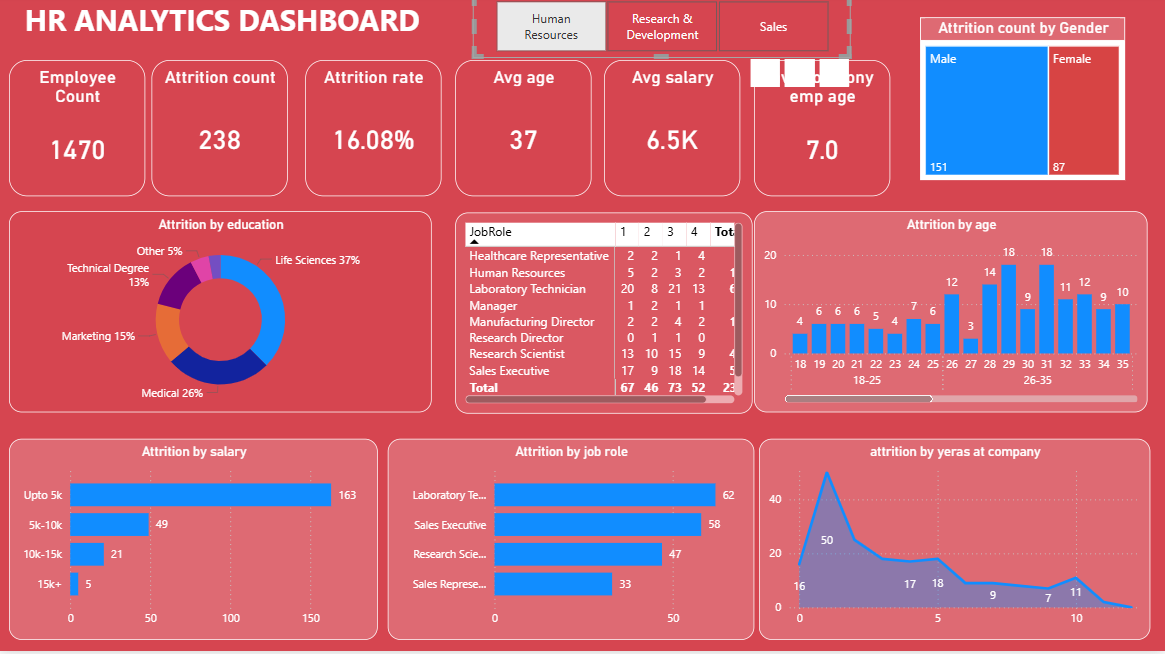

What the dashboard file says about the page in this screenshot:
{"tool":"powerbi","page":{"name":"Page 1","canvas":[1280,720],"ordinal":0},"visuals":[{"type":"card","title":"Employee Count","fields":{"Values":["Count(HR_Analytics.EmpID)"]},"box":[11,71.4,149.6,149.6],"z":0},{"type":"card","title":"Avg salary","fields":{"Values":["Avg(HR_Analytics.MonthlyIncome)"]},"box":[664.2,71.4,149.6,149.6],"z":1000},{"type":"card","title":"Attrition count","fields":{"Values":["Sum(HR_Analytics.Attrition count)"]},"box":[167.4,71.4,149.6,149.6],"z":2000},{"type":"card","title":"Avg age","fields":{"Values":["Avg(HR_Analytics.Age)"]},"box":[500.9,71.4,149.6,149.6],"z":3000},{"type":"card","title":"Attrition rate","fields":{"Values":["HR_Analytics.Attrition rate"]},"box":[336.2,71.4,149.6,149.6],"z":4000},{"type":"card","title":"avg comapny emp age","fields":{"Values":["Avg(HR_Analytics.YearsAtCompany)"]},"box":[828.8,71.4,149.6,149.6],"z":5000},{"type":"donutChart","title":"Attrition by education","fields":{"Category":["HR_Analytics.EducationField"],"Y":["Sum(HR_Analytics.Attrition count)"]},"box":[11,237.4,463.8,220.9],"z":6000},{"type":"columnChart","title":"Attrition by age","fields":{"Category":["HR_Analytics.AgeGroup","HR_Analytics.Age"],"Y":["Sum(HR_Analytics.Attrition count)"]},"box":[828.8,237.4,432.2,220.9],"z":7000},{"type":"pivotTable","fields":{"Rows":["HR_Analytics.JobRole"],"Columns":["HR_Analytics.JobSatisfaction"],"Values":["Sum(HR_Analytics.Attrition count)"]},"box":[487.4,237.7,326.9,220.8],"z":8000},{"type":"barChart","title":"Attrition by salary","fields":{"Category":["HR_Analytics.SalarySlab"],"Y":["Sum(HR_Analytics.Attrition count)"]},"box":[11,487.1,404.8,220.9],"z":9000},{"type":"barChart","title":"Attrition by job role","fields":{"Category":["HR_Analytics.JobRole"],"Y":["Sum(HR_Analytics.Attrition count)"]},"box":[426.8,487.1,402.1,220.9],"z":10000},{"type":"stackedAreaChart","title":"attrition by yeras at company","fields":{"Category":["HR_Analytics.YearsAtCompany"],"Y":["Sum(HR_Analytics.Attrition count)"]},"box":[834.3,487.1,429.5,220.9],"z":11000},{"type":"treemap","title":" Attrition count by Gender","fields":{"Group":["HR_Analytics.Gender"],"Values":["Sum(HR_Analytics.Attrition count)"]},"box":[1011.3,24.7,225,178.4],"z":12000},{"type":"slicer","fields":{"Values":["HR_Analytics.Department"]},"box":[520.1,0,414.4,68.6],"z":12001},{"type":"textbox","box":[23.3,0,463.3,58.3],"z":12002}]}

Visuals, with their boxes in screenshot pixels (x1, y1, x2, y2), scaled from the page's 1280x720 canvas onto the 1165x654 screenshot:
"Employee Count" card: {"x1": 10, "y1": 65, "x2": 146, "y2": 201}
"Avg salary" card: {"x1": 605, "y1": 65, "x2": 741, "y2": 201}
"Attrition count" card: {"x1": 152, "y1": 65, "x2": 289, "y2": 201}
"Avg age" card: {"x1": 456, "y1": 65, "x2": 592, "y2": 201}
"Attrition rate" card: {"x1": 306, "y1": 65, "x2": 442, "y2": 201}
"avg comapny emp age" card: {"x1": 754, "y1": 65, "x2": 890, "y2": 201}
"Attrition by education" donutChart: {"x1": 10, "y1": 216, "x2": 432, "y2": 416}
"Attrition by age" columnChart: {"x1": 754, "y1": 216, "x2": 1148, "y2": 416}
pivotTable - HR_Analytics.JobRole x HR_Analytics.JobSatisfaction: {"x1": 444, "y1": 216, "x2": 741, "y2": 416}
"Attrition by salary" barChart: {"x1": 10, "y1": 442, "x2": 378, "y2": 643}
"Attrition by job role" barChart: {"x1": 388, "y1": 442, "x2": 754, "y2": 643}
"attrition by yeras at company" stackedAreaChart: {"x1": 759, "y1": 442, "x2": 1150, "y2": 643}
" Attrition count by Gender" treemap: {"x1": 920, "y1": 22, "x2": 1125, "y2": 184}
slicer - HR_Analytics.Department: {"x1": 473, "y1": 0, "x2": 851, "y2": 62}
textbox: {"x1": 21, "y1": 0, "x2": 443, "y2": 53}
